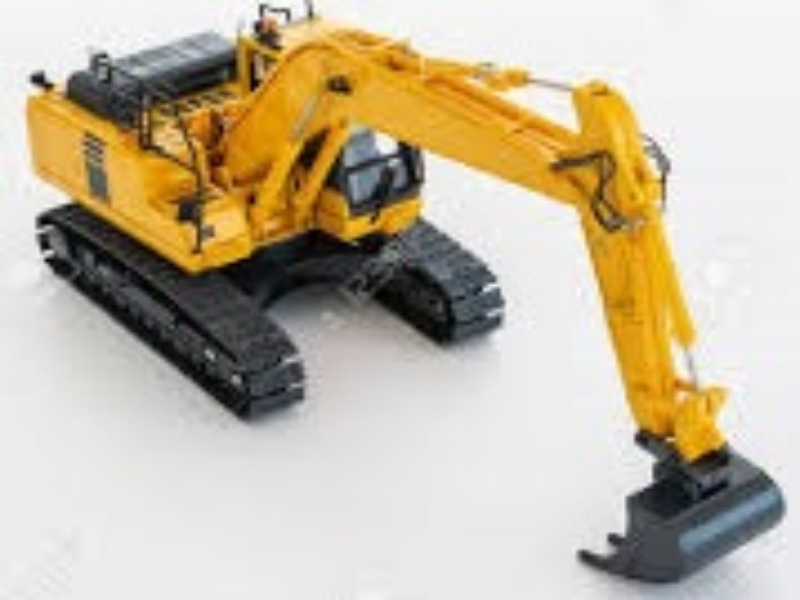wajueji: (15, 7, 574, 434)
